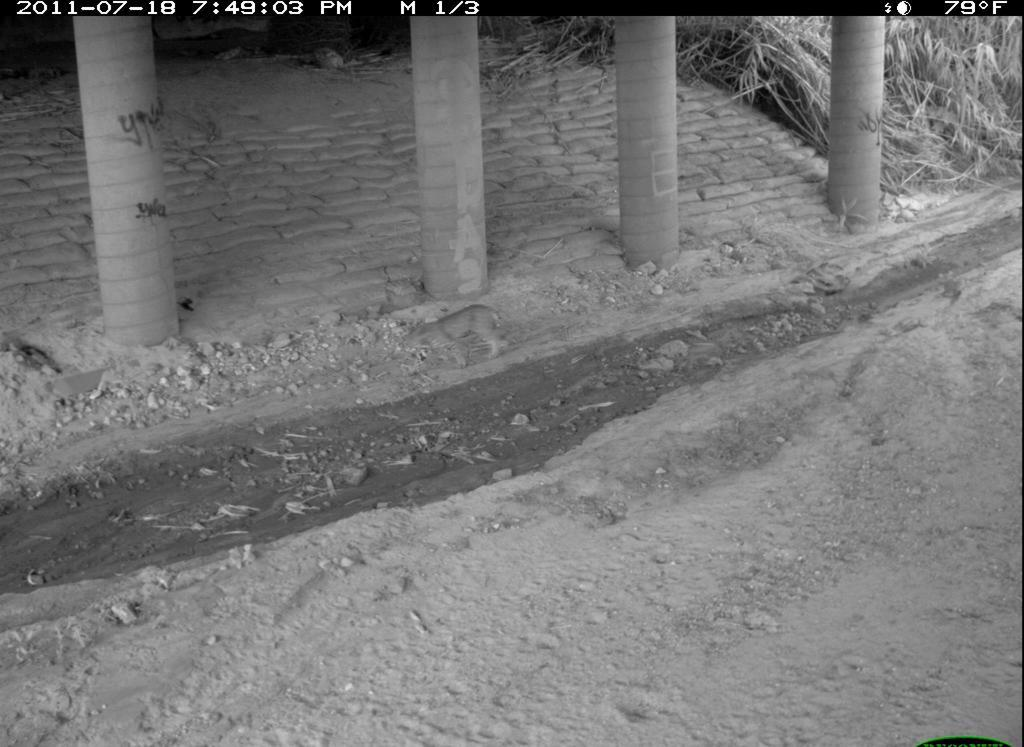bobcat: (796, 603, 1023, 747)
